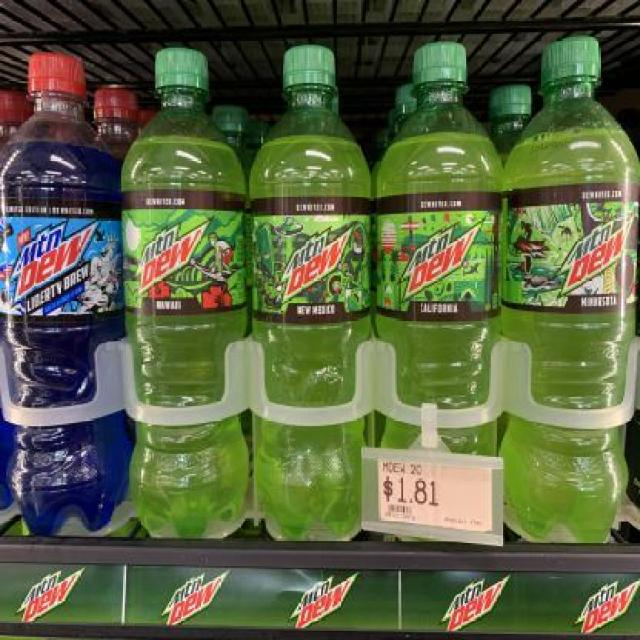Drinks: (504, 33, 639, 544), (0, 50, 132, 543), (374, 41, 503, 542), (120, 47, 248, 539), (250, 44, 372, 542)
